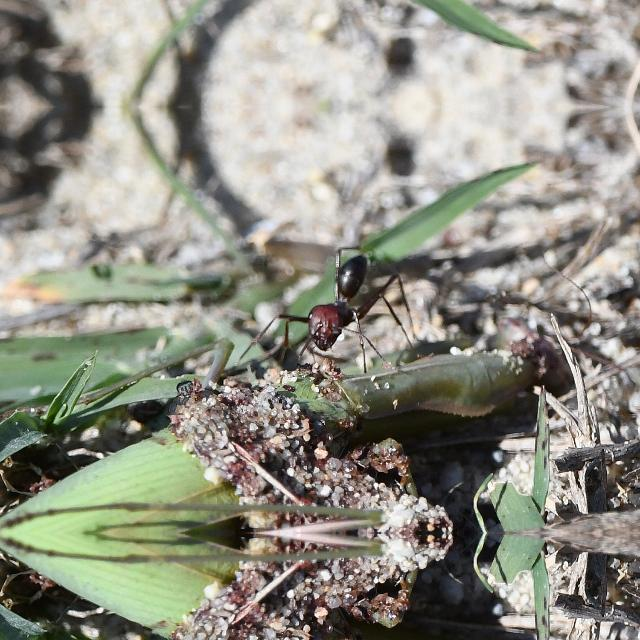Cataglyphis: (282, 244, 398, 356)
